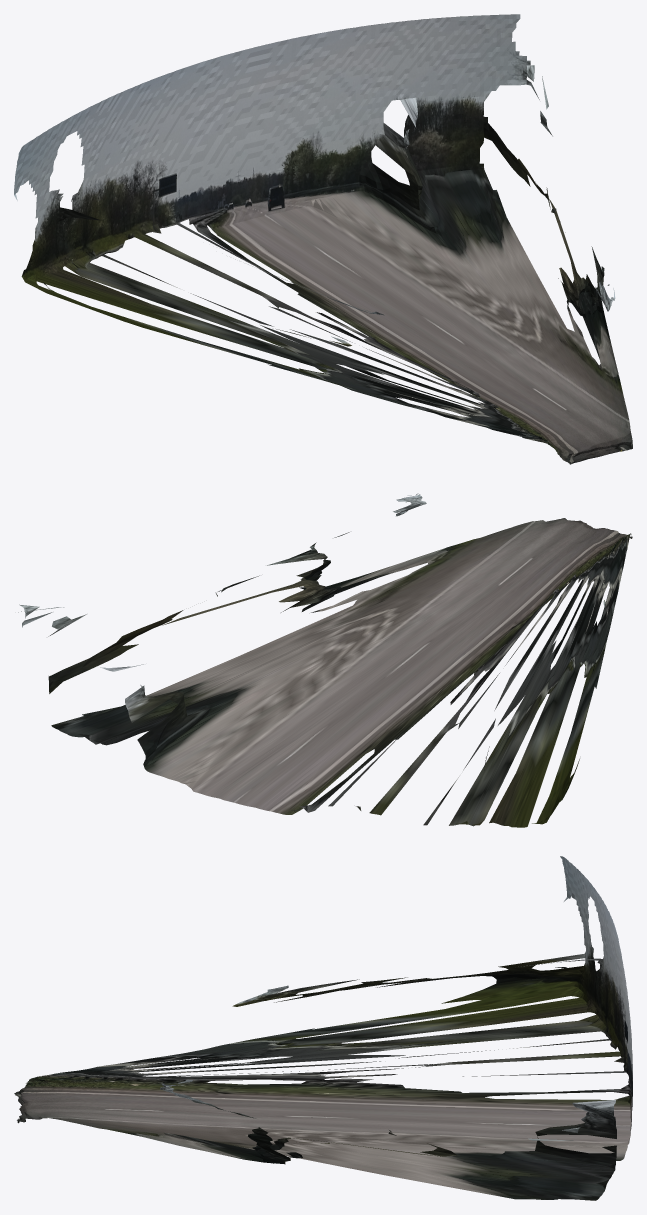
3 renders of one model, top to bottom at view 1: azimuth 30°, elevation 25°; view 2: azimuth 150°, elevation 25°; view 3: azimuth 270°, elevation 25°, orthographic. The views are drawn at different scales.
Parts seen in each view (by area): view 1: defaultobject; view 2: defaultobject; view 3: defaultobject.
Part boxes in pixels (x1,y1,x2,y2): defaultobject: (14,14,632,464); defaultobject: (18,493,632,827); defaultobject: (14,856,632,1200).
Size of the model in its own units: 39.39 by 12.52 by 44.56.
1 material, 1 textured.
